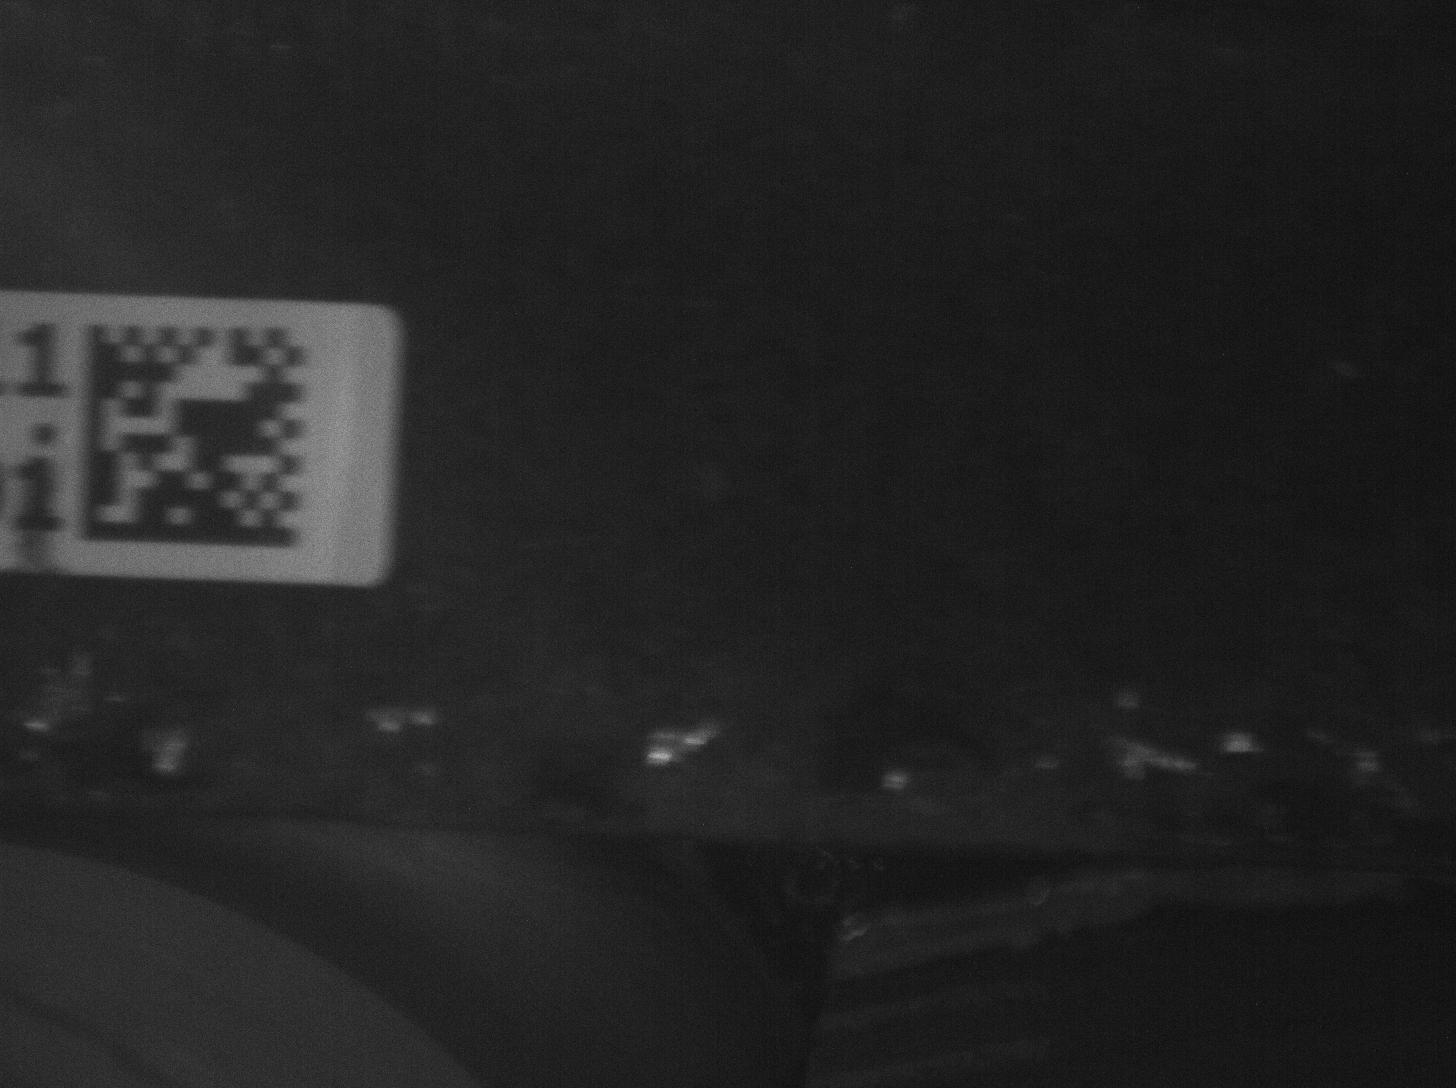data matrix: (69, 303, 321, 566)
